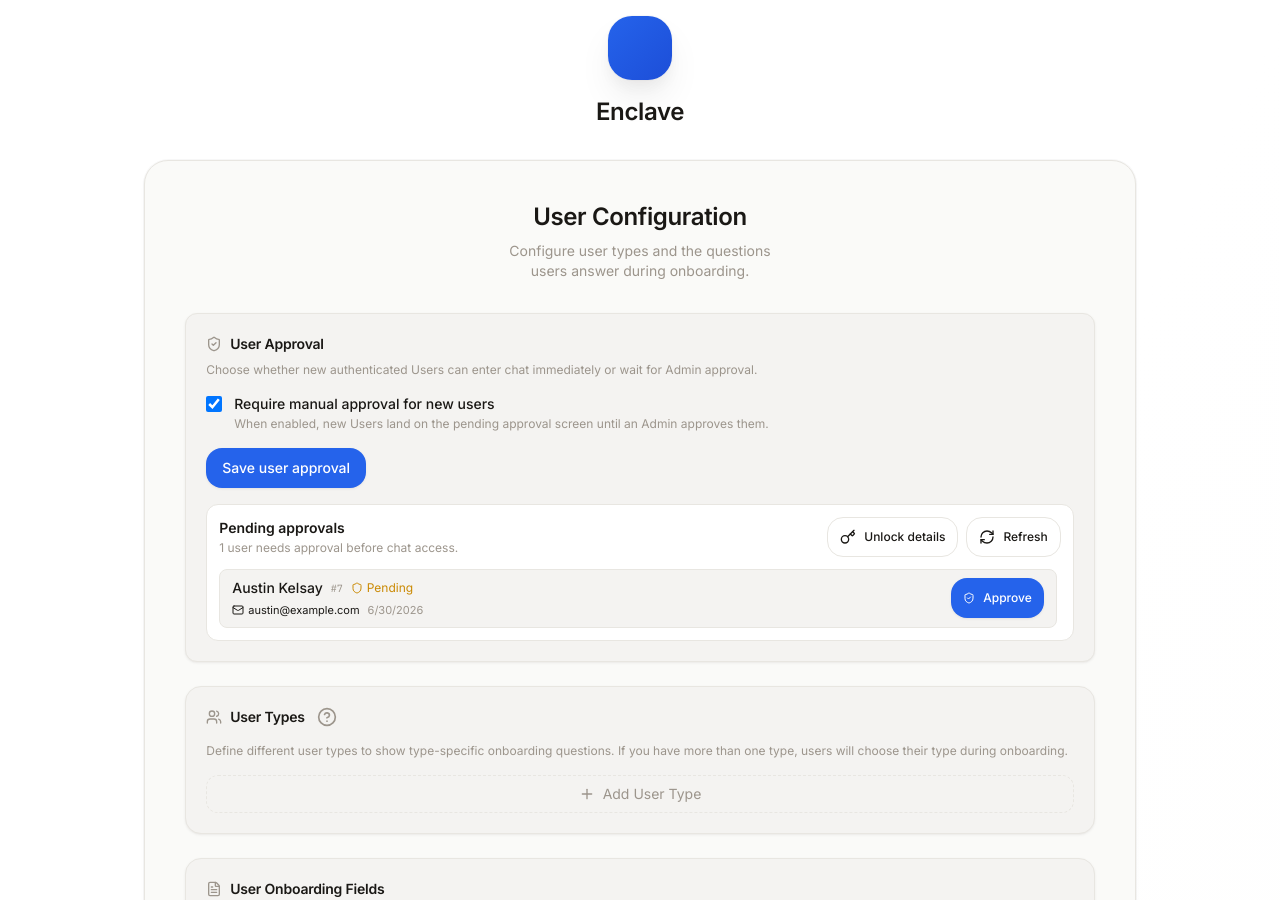
Test: AdminUserConfig › lets an admin approve a pending user from User Settings
Expected: the heading "Pending approvals" is shown, [219,519,345,536]
Expected: the text "1 user needs approval before chat access." is shown, [219,540,458,556]
Click the button "Approve".
click(998, 598)  # box [951,578,1044,618]
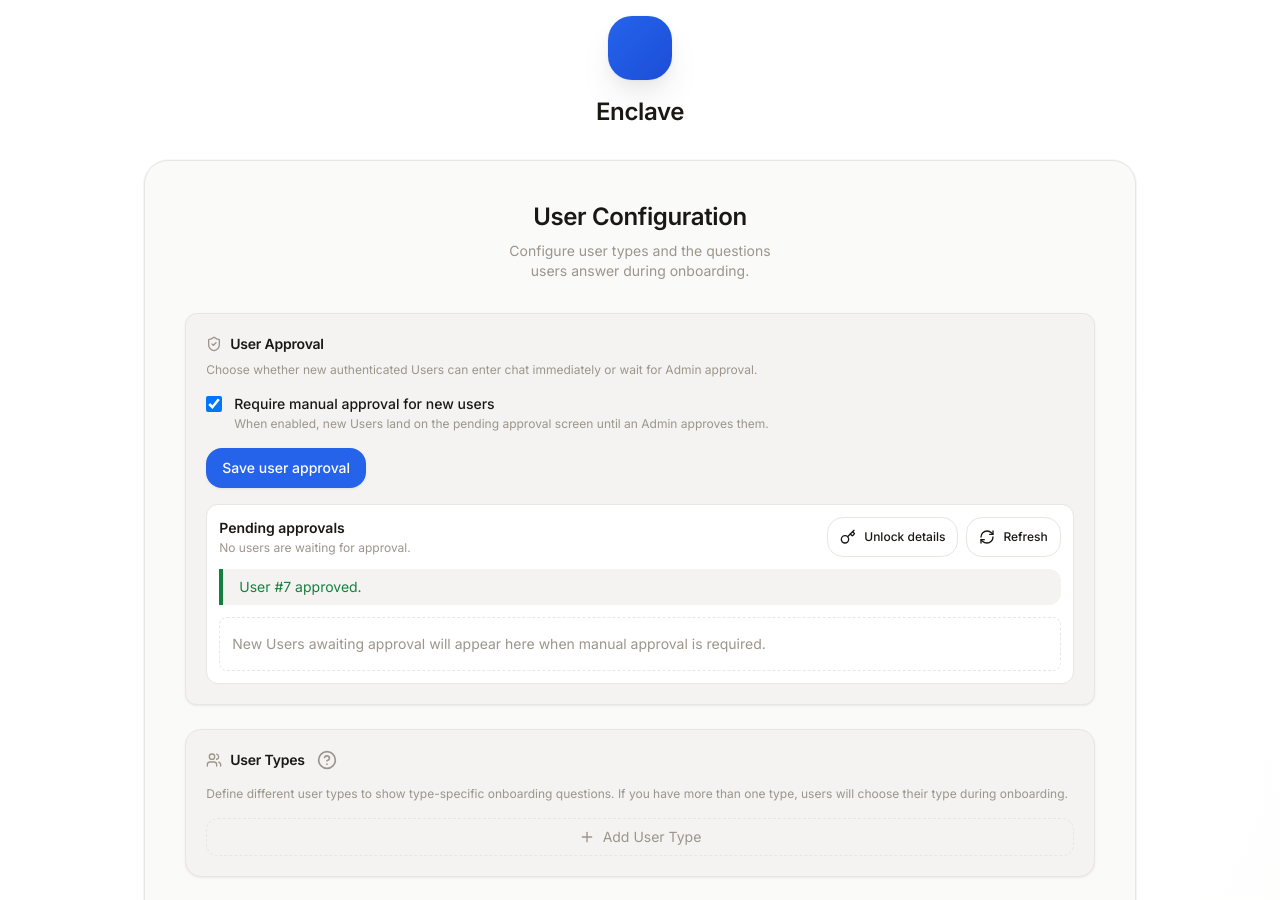
Expected: the element named "User approval updated" reads "User #7 approved.", [239,578,362,595]
Expected: the text "No users are waiting for approval." is shown, [219,540,411,556]
